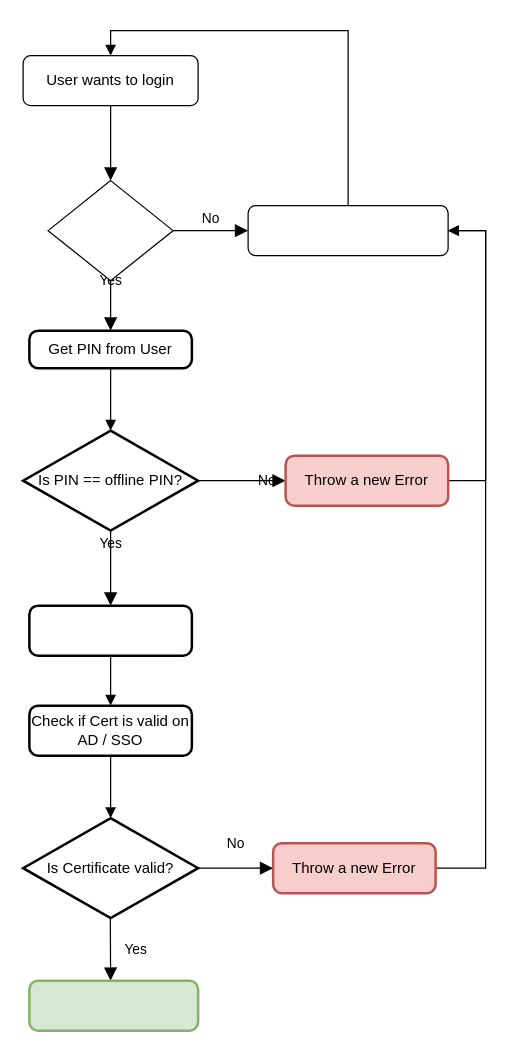
Image size: 518x1054. Some labels were removed from this diagram. The shapes that lost their labels are listed below. From the top down, each one's box as (x1, y1, x2, y2) in pixels, then its label:
(47, 179, 173, 281): Smartcard found?
(247, 204, 448, 256): Try again / Plug in SC
(28, 604, 192, 656): Send Certifacte to the Login-Service
(28, 979, 199, 1031): Login on Local machine
